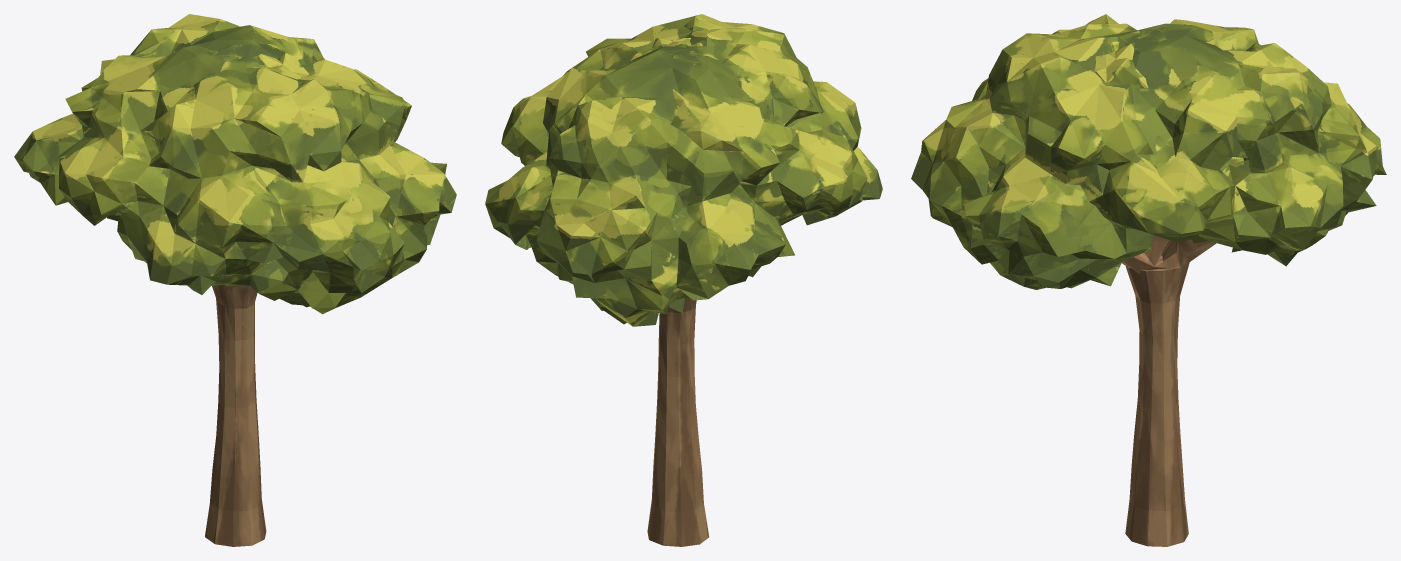
Rendered from tree_round_b.glb.
The picture shows the model from 3 angles, left to right: view 1: azimuth 30°, elevation 25°; view 2: azimuth 150°, elevation 25°; view 3: azimuth 270°, elevation 25°; orthographic projection. The views are drawn at different scales.
Visible parts, largest first — view 1: body; view 2: body; view 3: body.
Part boxes in pixels (x1,y1,x2,y2): body: (14,14,456,546); body: (485,14,882,546); body: (911,14,1386,546).
Bounding box in the file's own units: 3.18 × 4.38 × 3.81.
2 materials, 2 textured.
